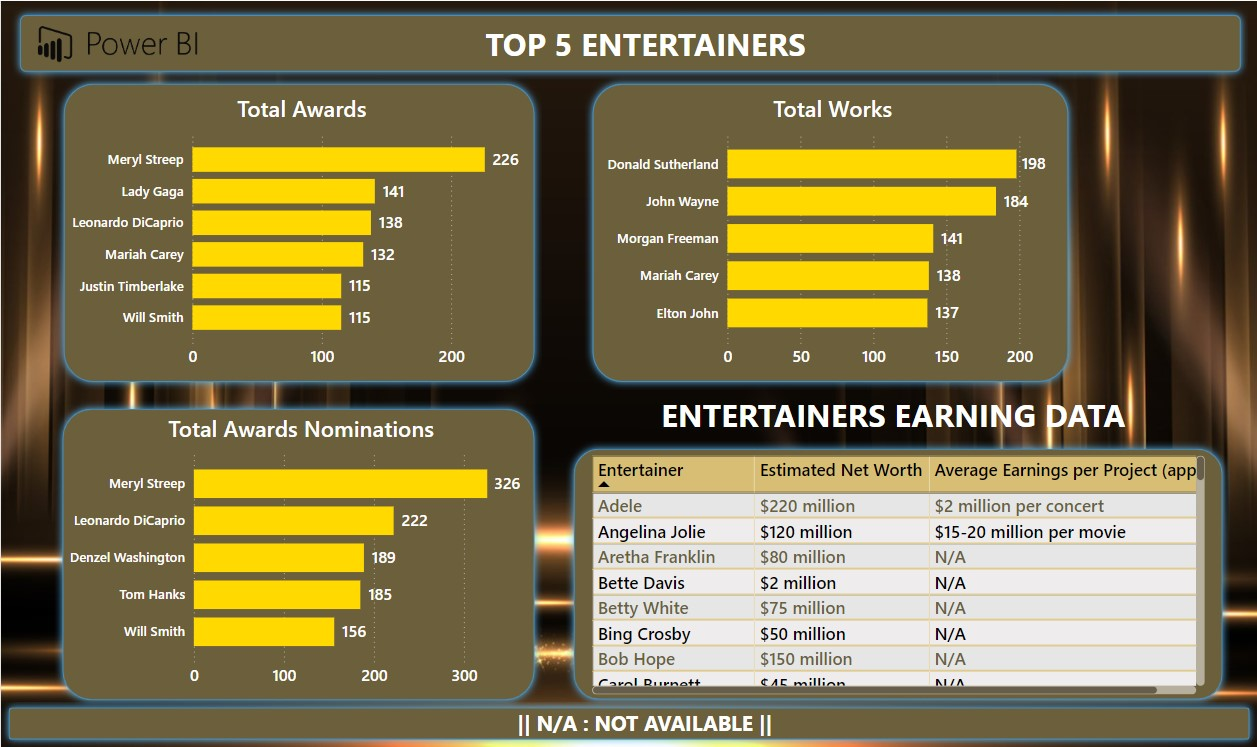

The page's visual inventory and layout, read from the dashboard file:
{"tool":"powerbi","page":{"name":"TOP ENTERTAINER ANALYSIS","canvas":[1280,760],"ordinal":2},"visuals":[{"type":"shape","box":[56.3,76.8,495.4,319.7],"z":0},{"type":"shape","box":[12.1,6,1259.5,73.6],"z":1000},{"type":"image","box":[26.5,16.9,183.4,53.1],"z":2000},{"type":"barChart","title":"Total Awards","fields":{"Category":["Entertainers_awards_details.Entertainer"],"Y":["Sum(Entertainers_awards_details.Total Awarads)"]},"box":[65.9,93.3,480.3,290.9],"z":3000},{"type":"shape","box":[594.8,76,500.7,319.7],"z":4000},{"type":"barChart","title":"Total Works","fields":{"Category":["Entertainers_awards_details.Entertainer"],"Y":["Sum(data.movie count)"]},"box":[611.1,92.3,472,290.9],"z":5000},{"type":"shape","box":[54.9,407.5,496.7,312.9],"z":6000},{"type":"barChart","title":"Total Awards Nominations","fields":{"Category":["Entertainers_awards_details.Entertainer"],"Y":["Sum(Entertainers_awards_details.num_nominations)"]},"box":[63.1,418.5,484.4,289.5],"z":7000},{"type":"shape","box":[575.5,448.5,676.8,271.4],"z":8000},{"type":"tableEx","fields":{"Values":["Sheet1.Entertainer","Sheet1.Estimated Net Worth","Sheet1.Average Earnings per Project (approx.)"]},"box":[596,458.2,635.8,253.4],"z":9000},{"type":"textbox","box":[454.3,17.1,404.3,54.3],"z":10000},{"type":"textbox","box":[657.1,394.3,504.3,54.3],"z":11000},{"type":"shape","box":[0,711.4,1280,48.6],"z":12000},{"type":"textbox","box":[404.3,715.7,504.3,40],"z":13000}]}

Visuals, with their boxes on the page's 1280x760 design canvas (x1, y1, x2, y2). These are canvas units, not pixel positions in the 1257x747 screenshot, which may show the page scaled, cropped or inside an application window:
shape: {"left": 56, "top": 77, "right": 552, "bottom": 396}
shape: {"left": 12, "top": 6, "right": 1272, "bottom": 80}
image: {"left": 26, "top": 17, "right": 210, "bottom": 70}
"Total Awards" barChart: {"left": 66, "top": 93, "right": 546, "bottom": 384}
shape: {"left": 595, "top": 76, "right": 1096, "bottom": 396}
"Total Works" barChart: {"left": 611, "top": 92, "right": 1083, "bottom": 383}
shape: {"left": 55, "top": 408, "right": 552, "bottom": 720}
"Total Awards Nominations" barChart: {"left": 63, "top": 418, "right": 548, "bottom": 708}
shape: {"left": 576, "top": 448, "right": 1252, "bottom": 720}
tableEx - Sheet1.Entertainer x Sheet1.Estimated Net Worth: {"left": 596, "top": 458, "right": 1232, "bottom": 712}
textbox: {"left": 454, "top": 17, "right": 859, "bottom": 71}
textbox: {"left": 657, "top": 394, "right": 1161, "bottom": 449}
shape: {"left": 0, "top": 711, "right": 1280, "bottom": 760}
textbox: {"left": 404, "top": 716, "right": 909, "bottom": 756}
